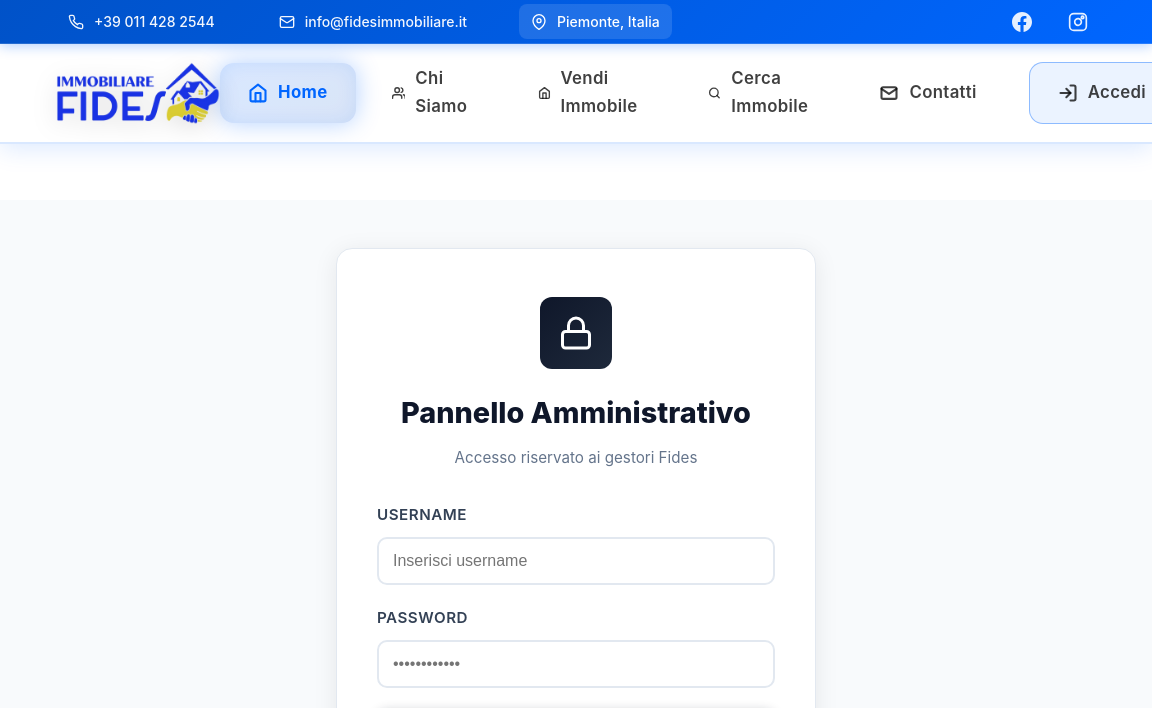
it: AdminPage - Login › ❌ Dovrebbe mostrare errore con credenziali errate
Type "wrong" into the field with placeholder "Inserisci username" at (576, 561), box [377,537,775,585]
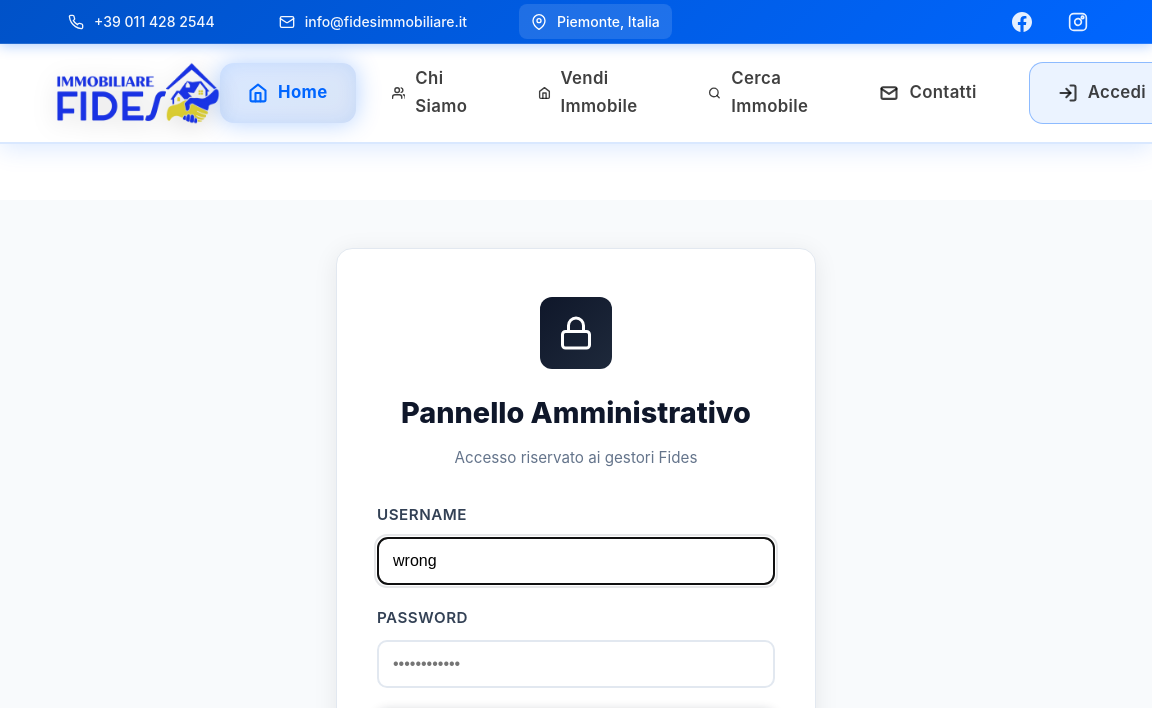
Type "wrong" into the password field with placeholder "••••••••••••" at (576, 664), box [377,640,775,688]
(page scrolled)
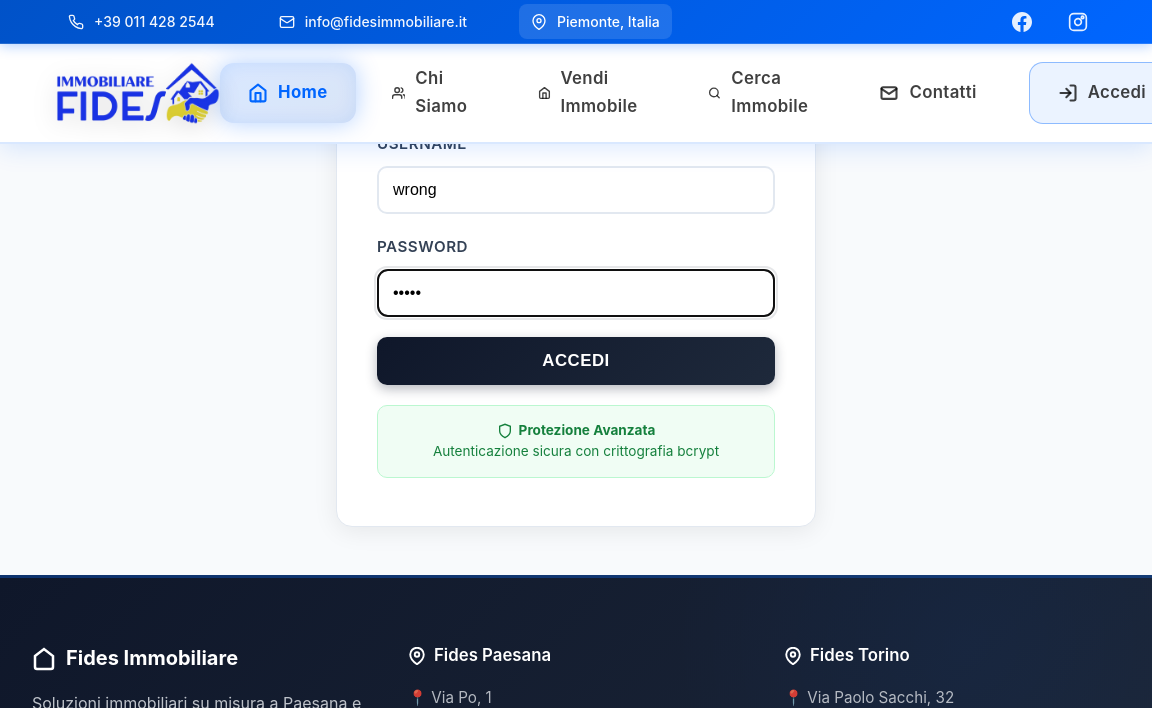
Click the button "Accedi" at (576, 361), box [377,337,775,385]
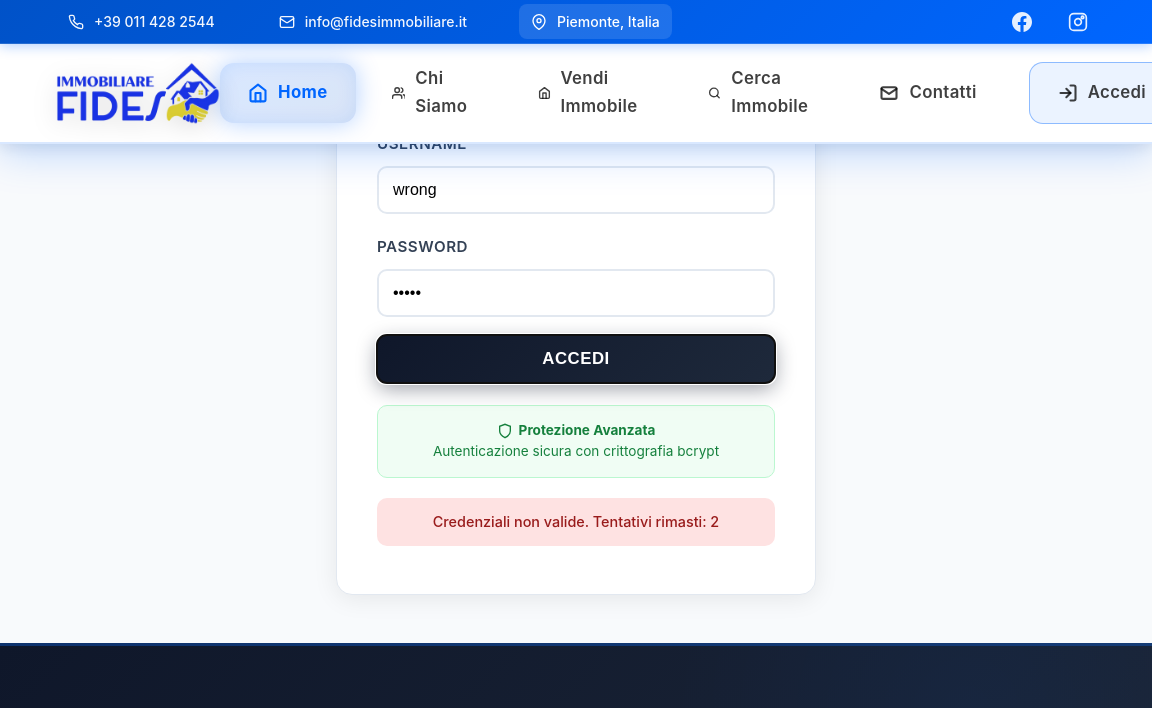
Check: the text "Credenziali non valide. Tentativi rimasti: 2" is shown, box [377,498,775,546]
